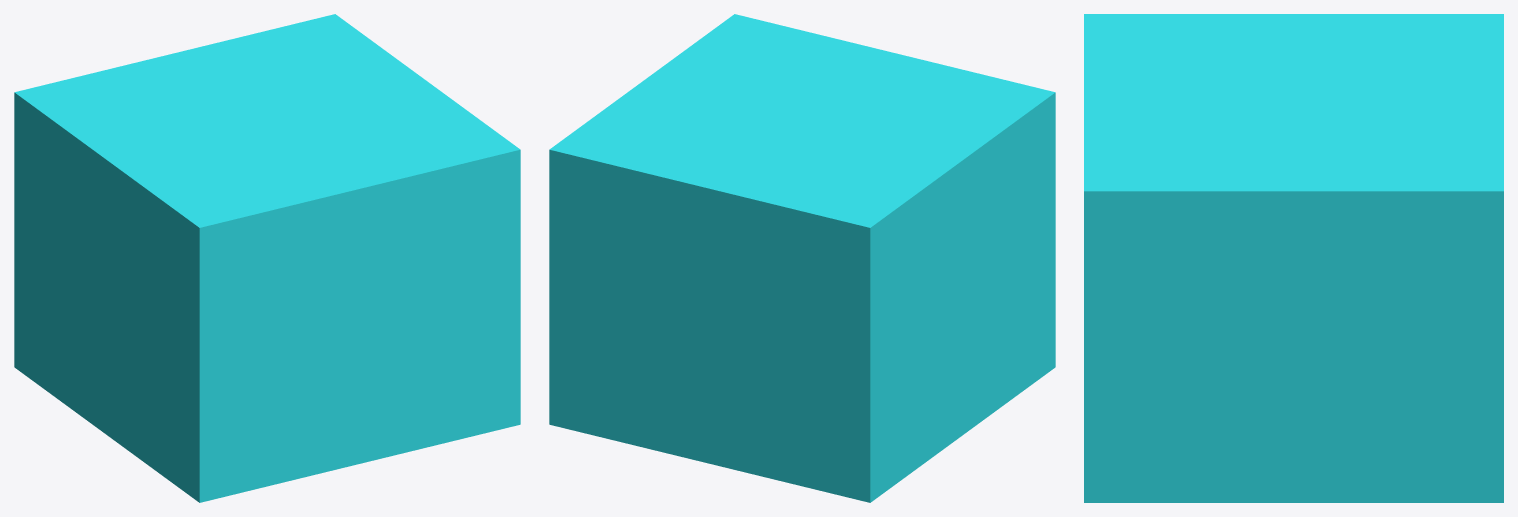
Rendered from WaterTileV2.fbx.
The picture shows the model from 3 angles, left to right: view 1: azimuth 30°, elevation 25°; view 2: azimuth 150°, elevation 25°; view 3: azimuth 270°, elevation 25°; orthographic projection. The views are drawn at different scales.
Visible parts, largest first — view 1: WaterBlock1; view 2: WaterBlock1; view 3: WaterBlock1.
Boxes of the visible parts, x1,y1,x2,y2 form: WaterBlock1: (14, 14, 520, 502); WaterBlock1: (549, 14, 1055, 502); WaterBlock1: (1084, 14, 1503, 502).
Bounding box in the file's own units: 0.1 × 0.0819 × 0.1.
1 material, 1 textured.
